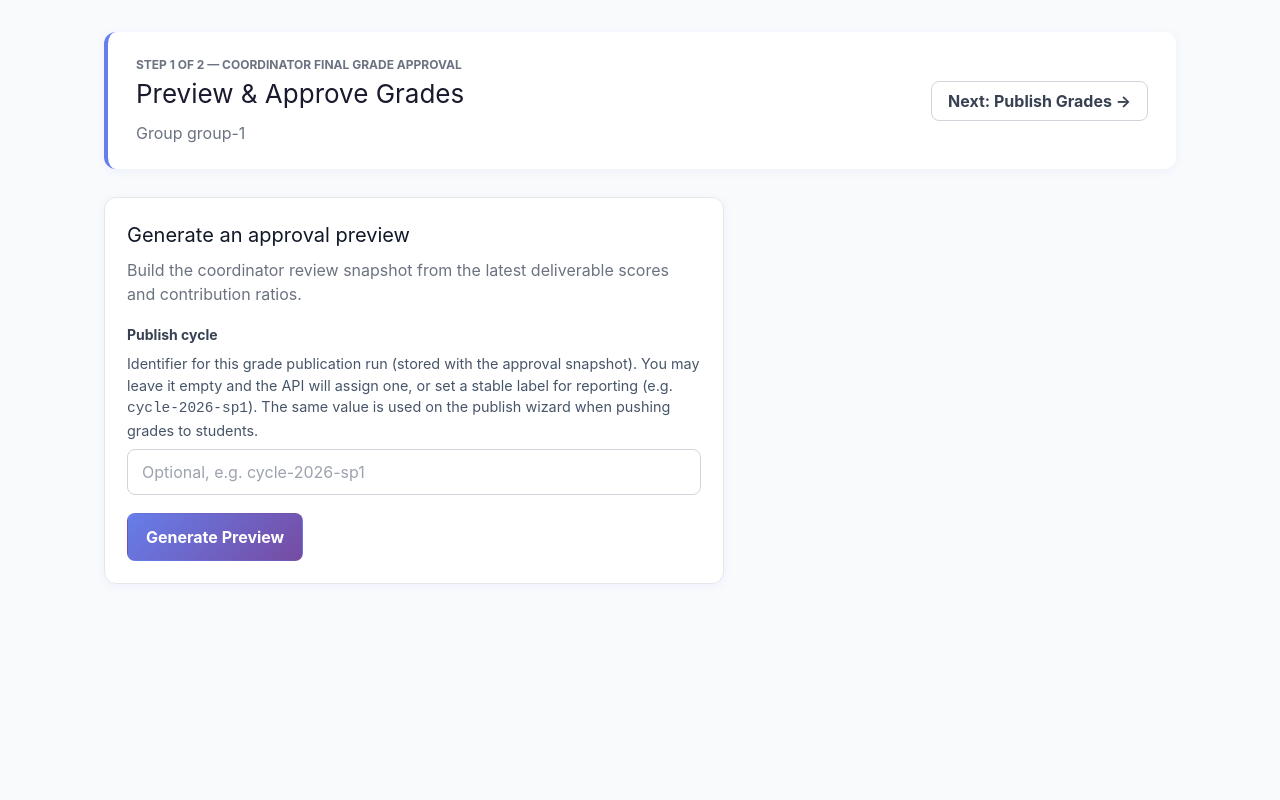
CoordinatorFinalGradeApprovalPanel › generates preview and displays student grade rows
The image size is (1280, 800).
Click the button "Generate Preview" at (215, 537), box [127,513,303,561]
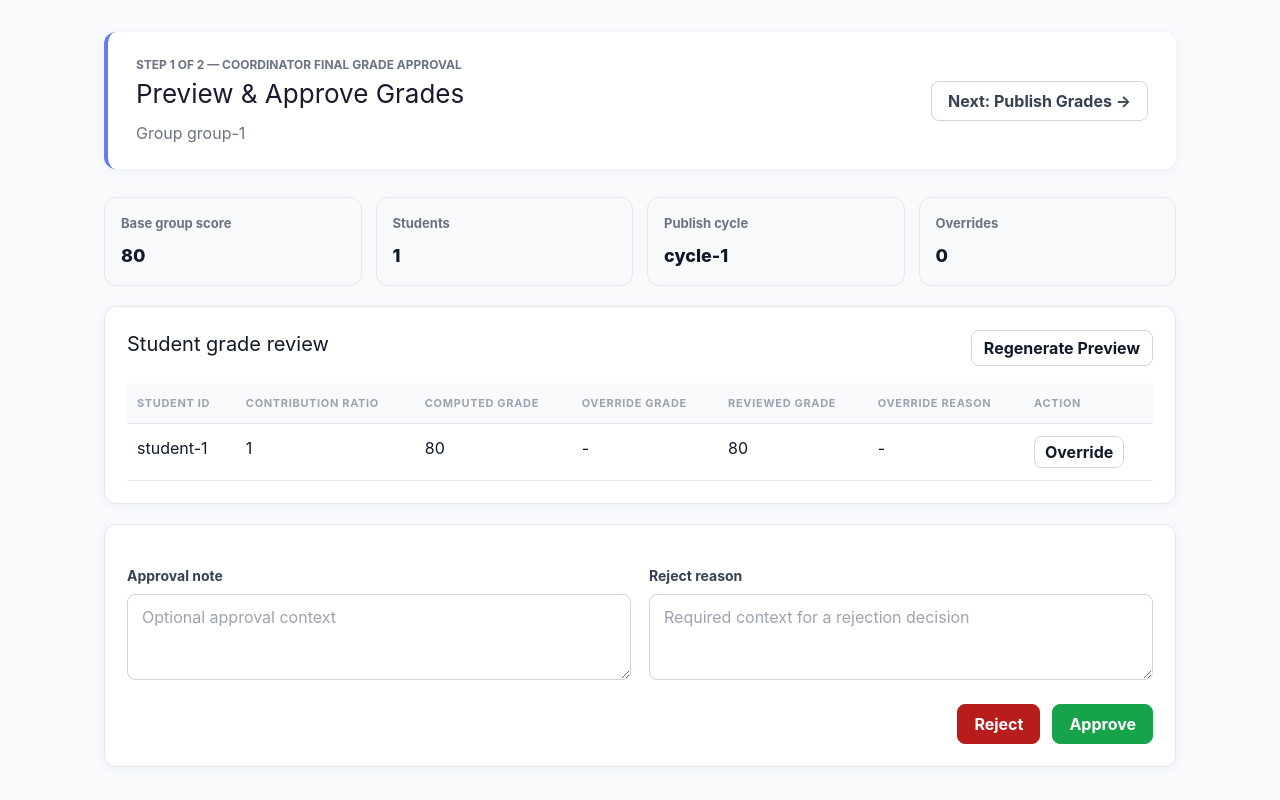
Check: the text "student-1" is shown, box [127,424,236,480]
Check: the text "cycle-1" is shown, box [664,244,728,266]
Check: the button "Approve" is shown, box [1052,704,1153,744]
